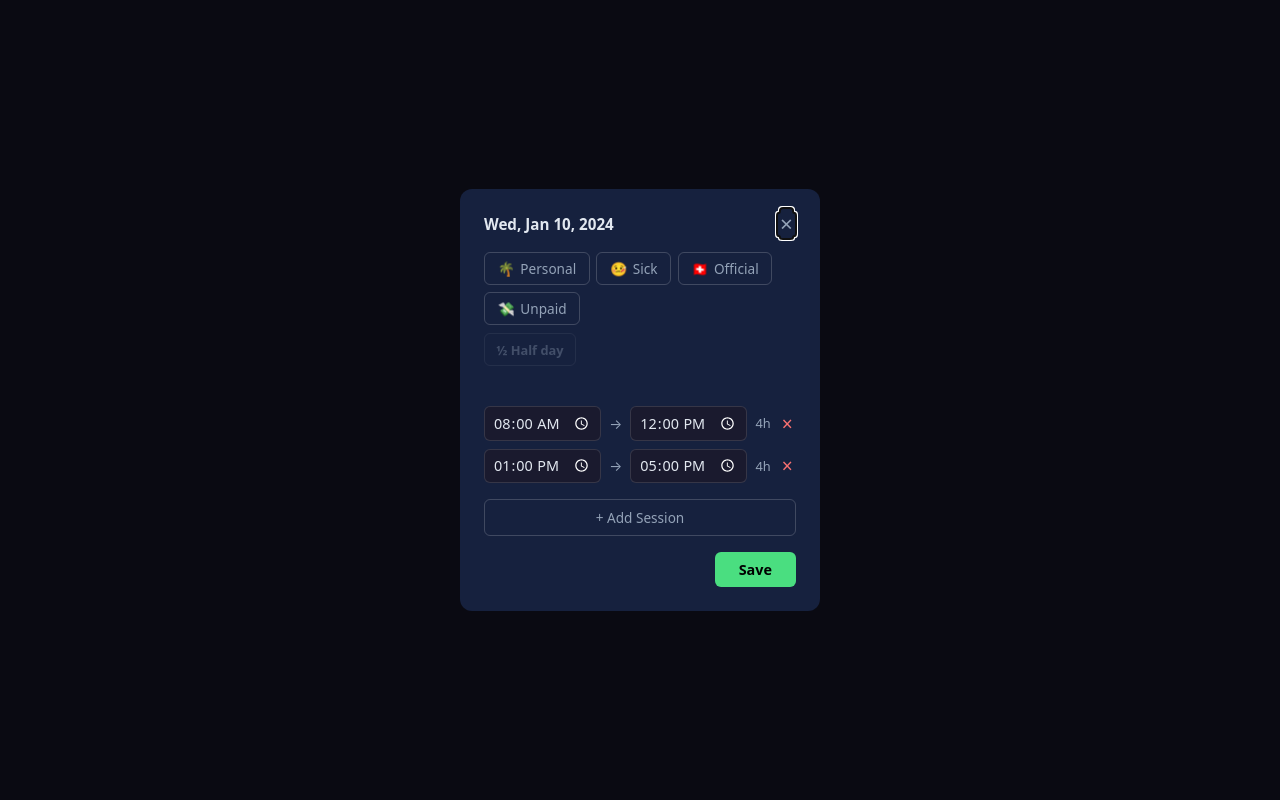
DayEditModal › shows the empty state when all sessions are removed
Click the button named "Delete session".
click(787, 423)  # box [779,414,796,433]
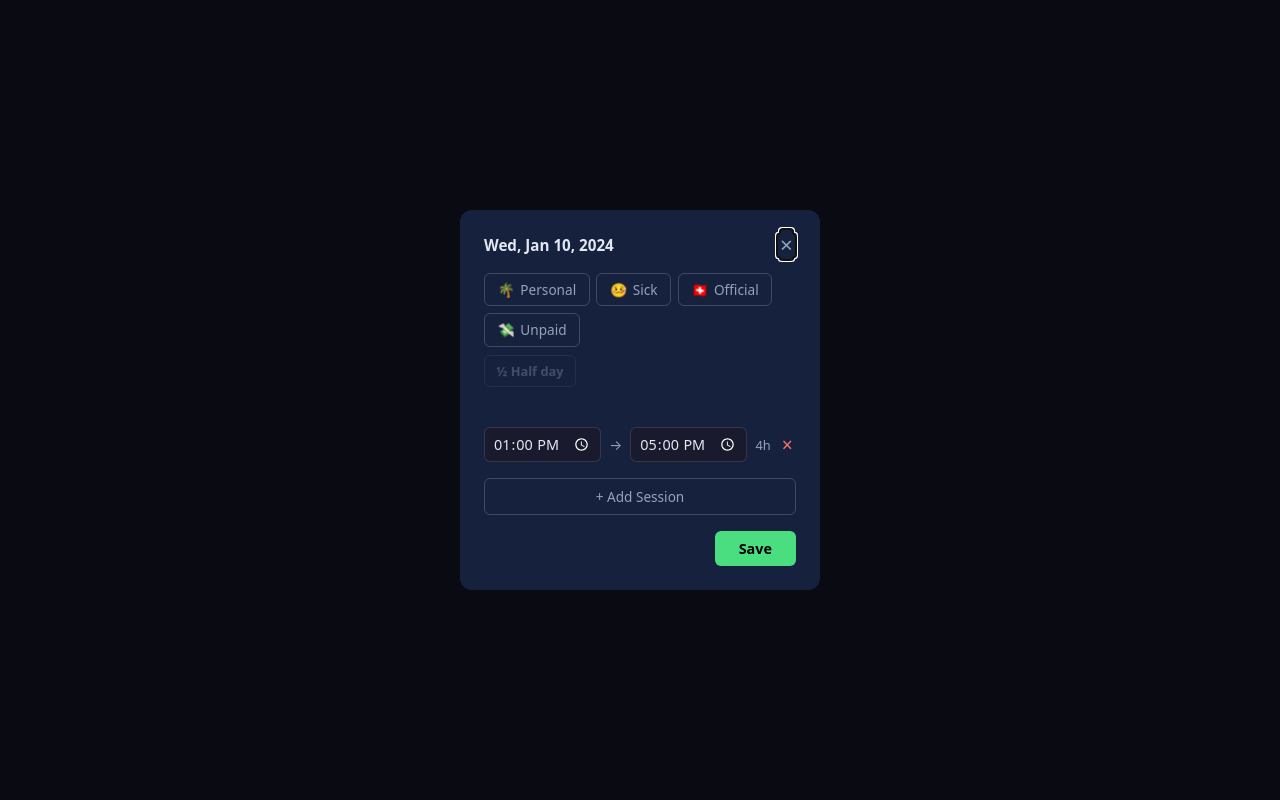
Click the button named "Delete session".
click(787, 445)  # box [779,435,796,454]
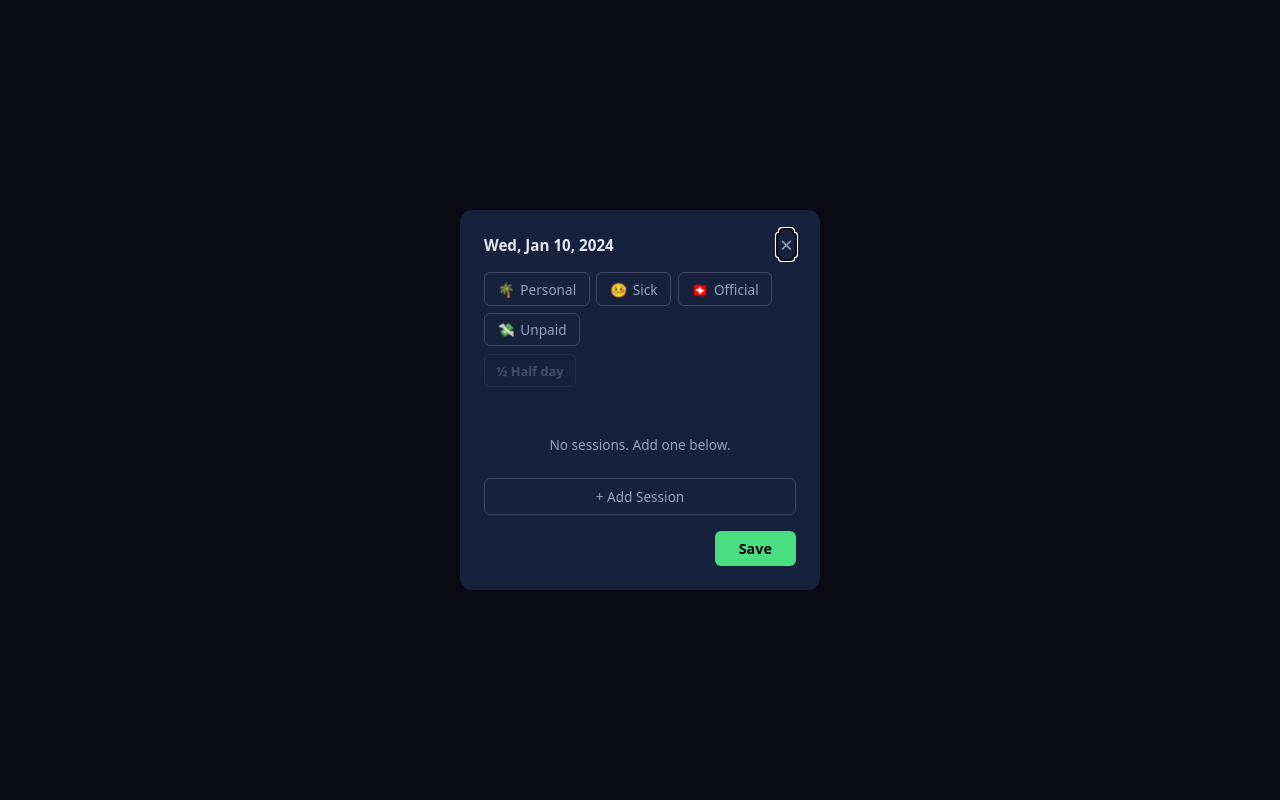
Now the text "No sessions. Add one below." is shown, box [549,435,731,454]
